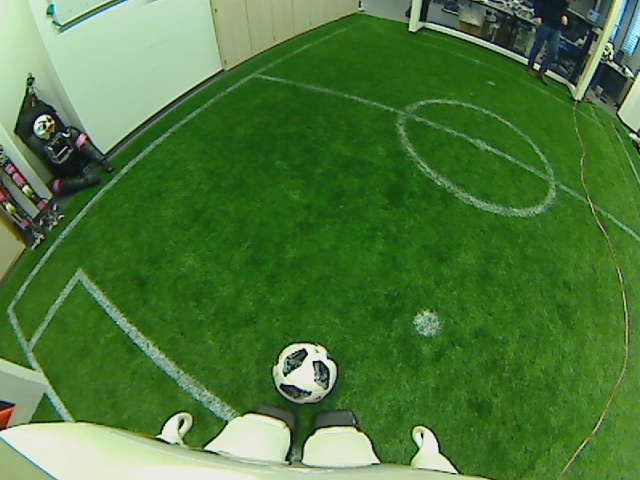ball: (270, 338, 340, 408)
